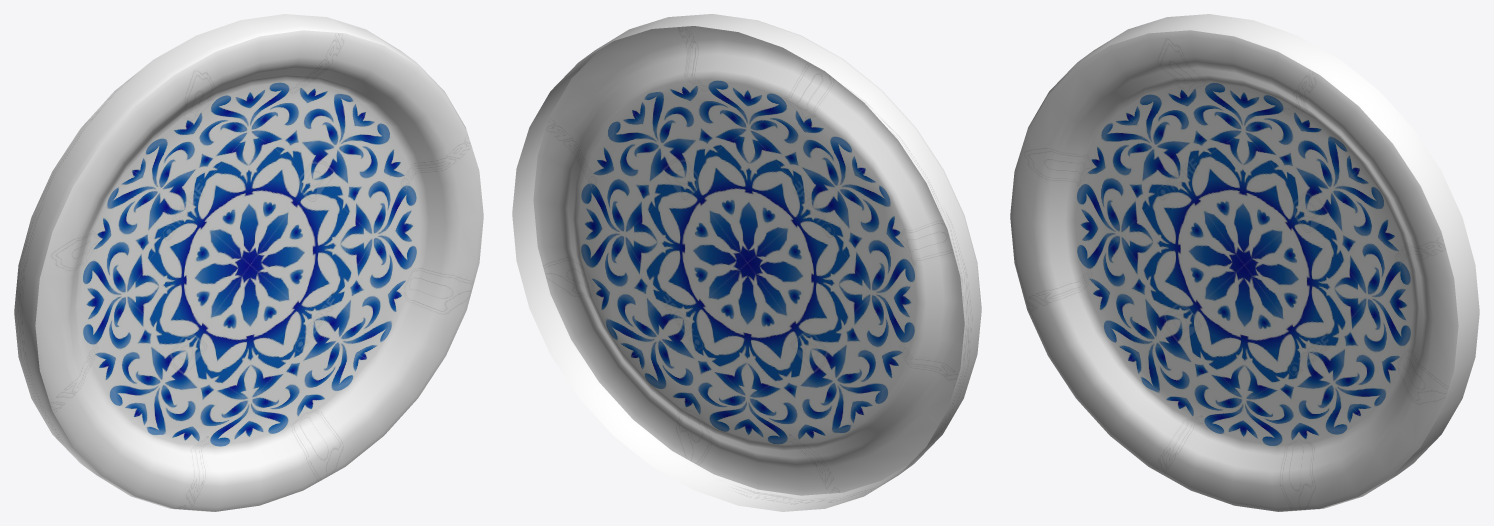
Rendered from porcelain_plate_2.fbx.
The picture shows the model from 3 angles, left to right: view 1: azimuth 30°, elevation 25°; view 2: azimuth 150°, elevation 25°; view 3: azimuth 330°, elevation 25°; orthographic projection.
Parts seen in each view (by area): view 1: Cylinder.004; view 2: Cylinder.004; view 3: Cylinder.004.
Part boxes in pixels (x1=…): Cylinder.004: x1=14, y1=14, x2=483, y2=511; Cylinder.004: x1=512, y1=14, x2=981, y2=511; Cylinder.004: x1=1010, y1=14, x2=1479, y2=511.
Bounding box in the file's own units: 15.8 × 15.8 × 1.23.
